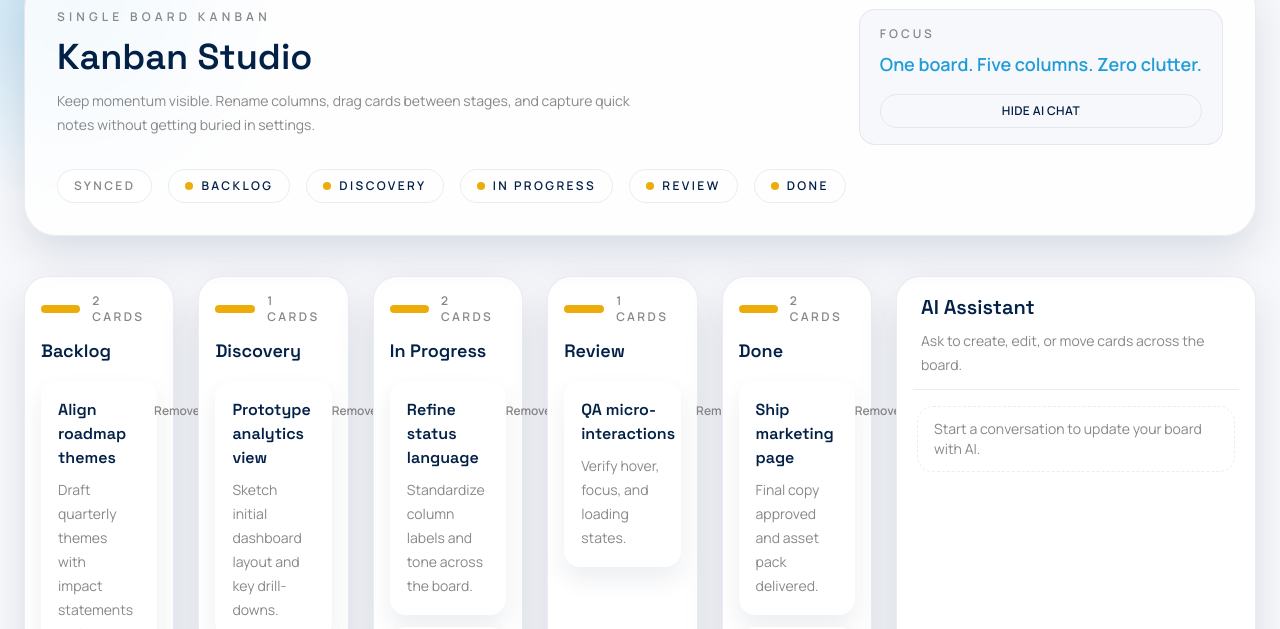
Test: KanbanBoard › opens chat and shows AI response without board update
expect the heading "Kanban Studio" is shown: met, box [57,34,312,80]
Click the button "Hide AI chat" at (1041, 111), box [880,94,1202,128]
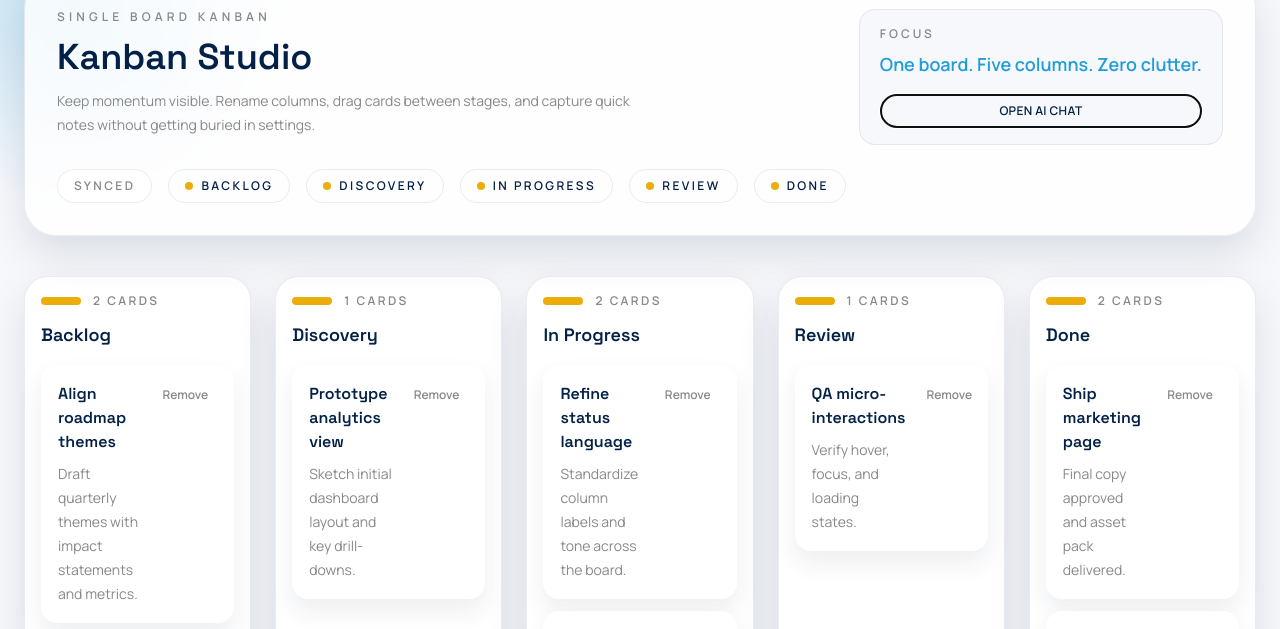
expect the heading "AI Assistant" is gone: met
Click the button "Open AI chat" at (1041, 111), box [880,94,1202,128]
(page scrolled)
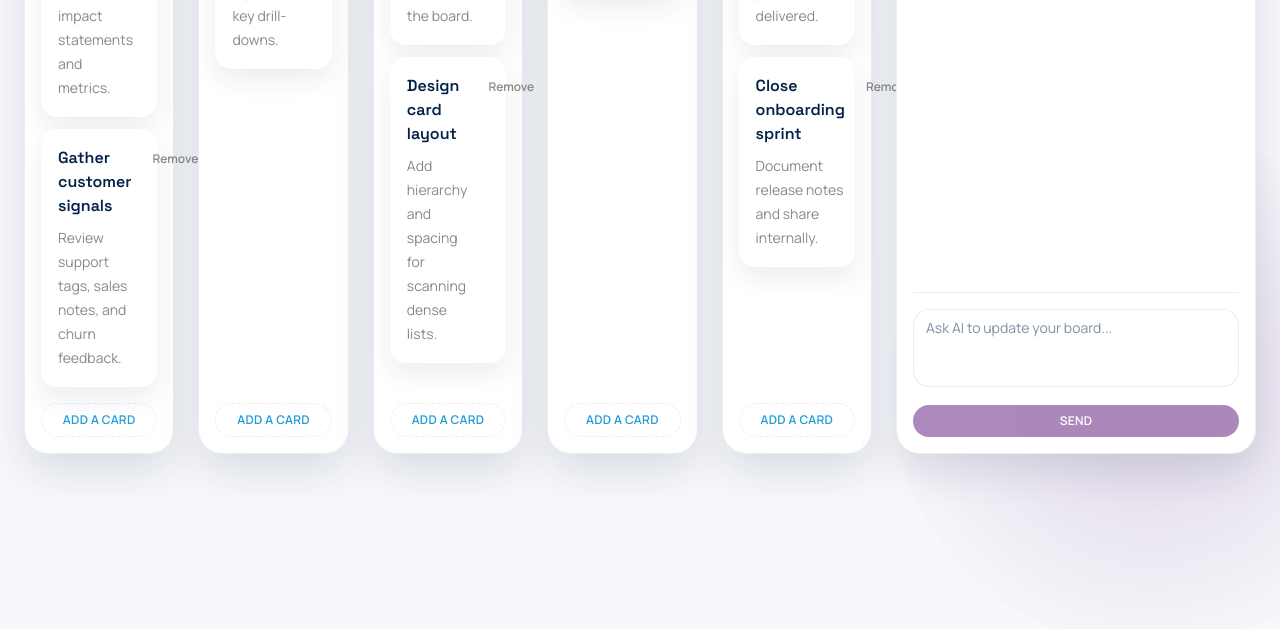
Type "What is 2+2?" into the text box named "Message AI assistant" at (1076, 348), box [913,309,1239,387]
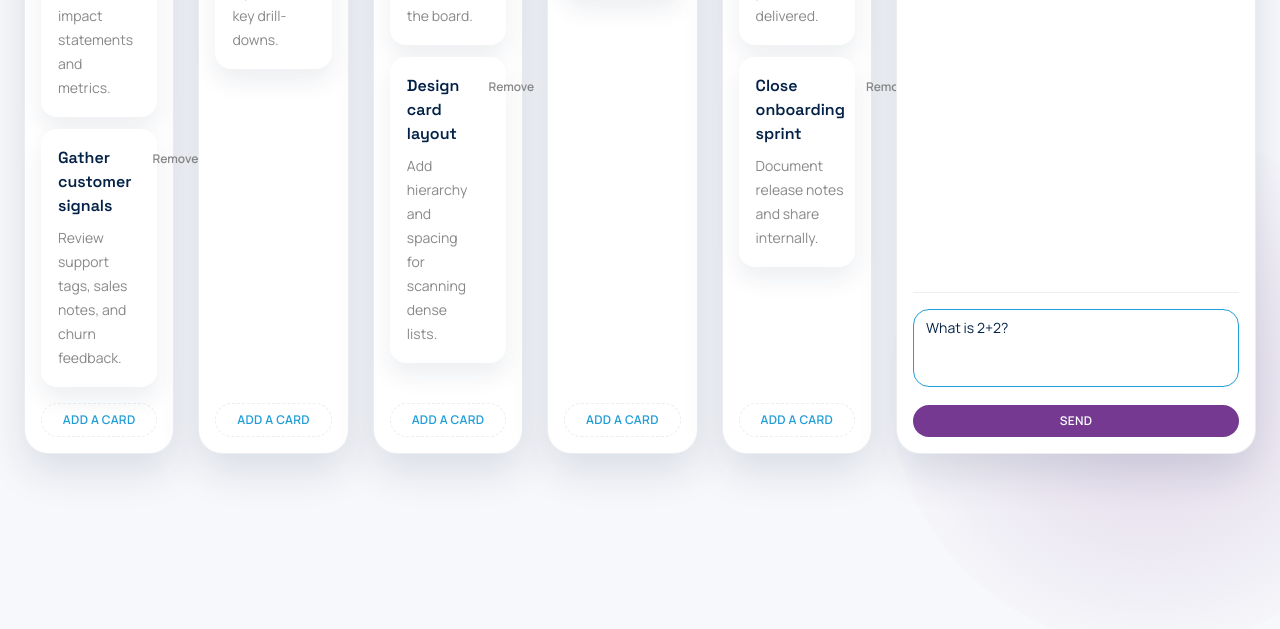
Click the button "Send" at (1076, 421), box [913,405,1239,437]
(page scrolled)
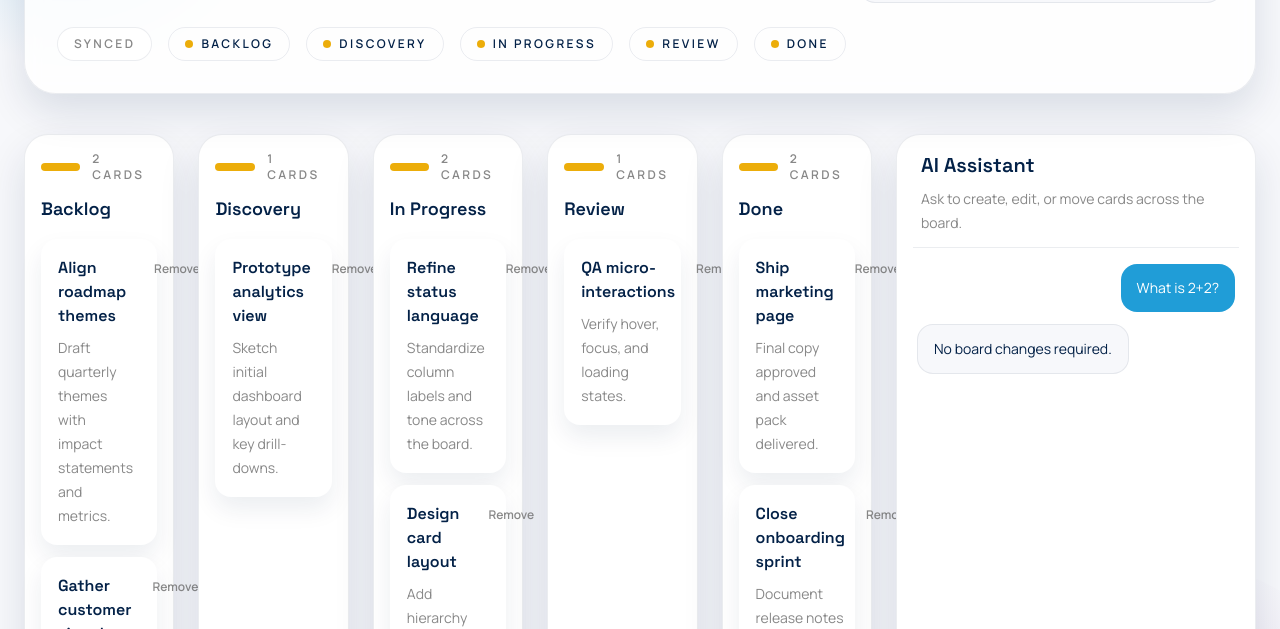
expect the text "No board changes required." is shown: met, box [917,324,1129,374]
expect the text "What is 2+2?" is shown: met, box [1121,264,1235,312]
